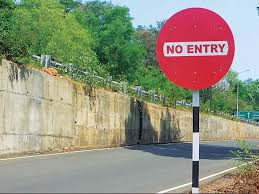No entry: (156, 8, 235, 91)
